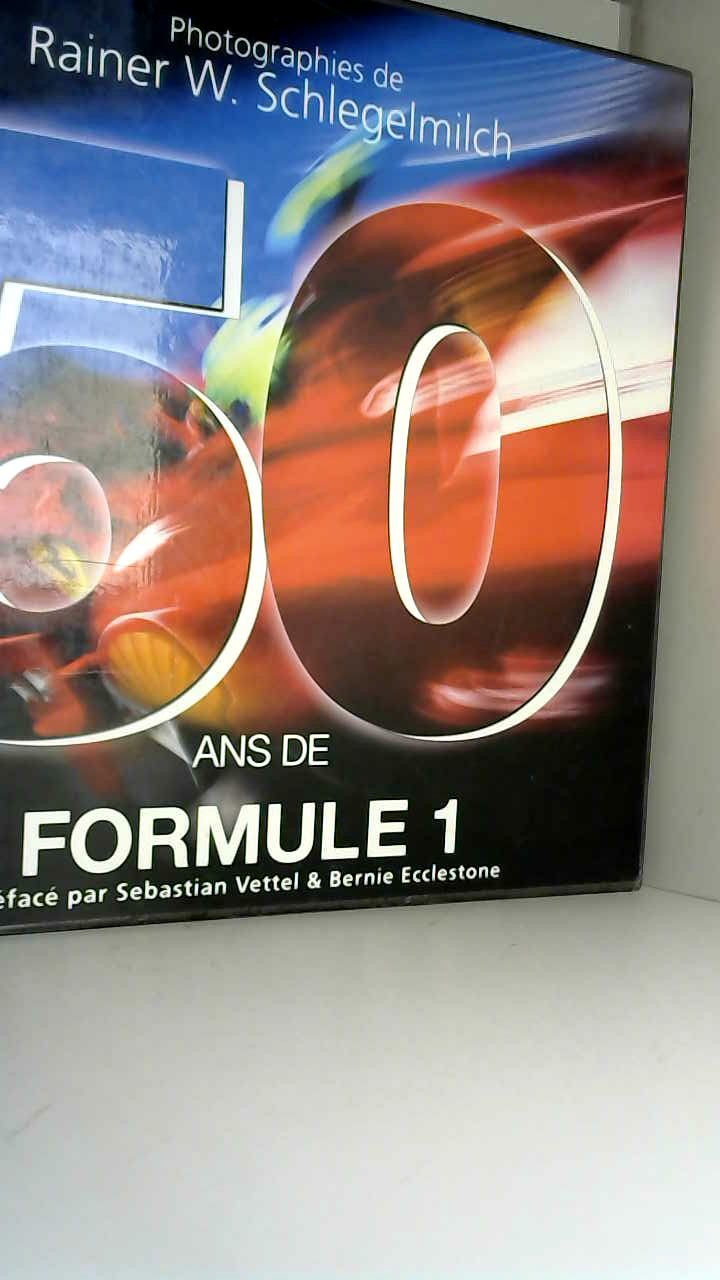book: (0, 0, 703, 950)
